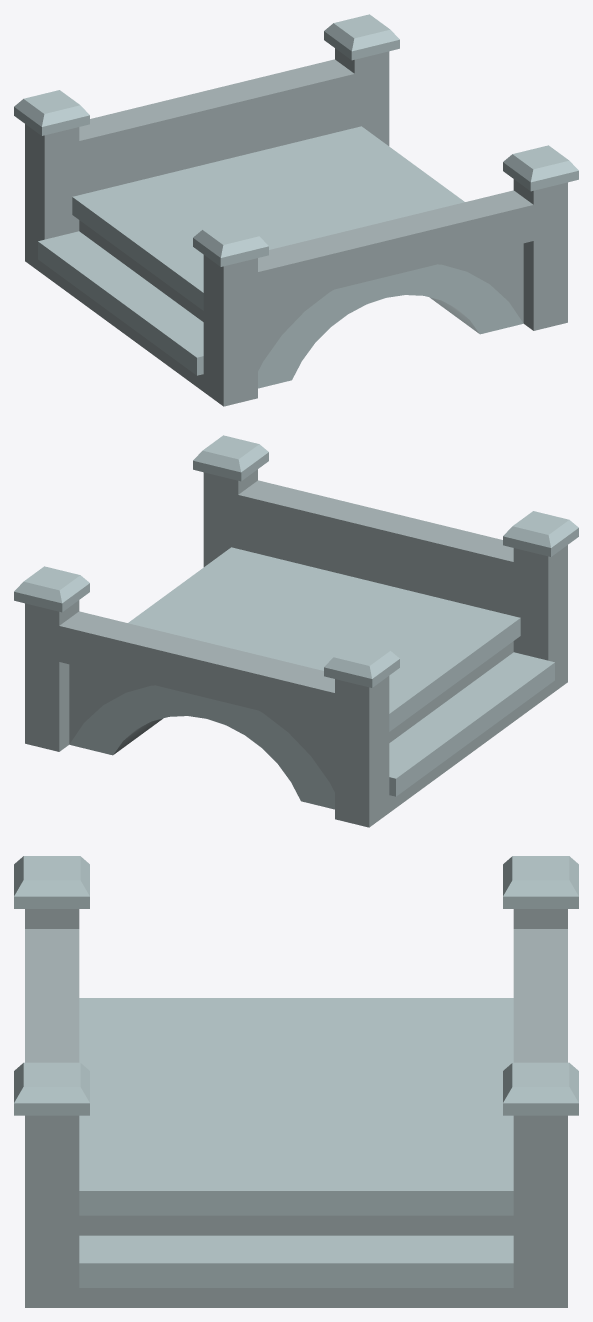
File: bridge_stoneRound.glb
3 views of the same model, one above another, from view 1: azimuth 30°, elevation 25°; view 2: azimuth 150°, elevation 25°; view 3: azimuth 270°, elevation 25° (orthographic). The views are drawn at different scales.
Parts seen in each view (by area): view 1: bridge_stoneRound; view 2: bridge_stoneRound; view 3: bridge_stoneRound.
Part boxes in pixels (x1=…): bridge_stoneRound: x1=14, y1=14, x2=578, y2=406; bridge_stoneRound: x1=14, y1=435, x2=578, y2=827; bridge_stoneRound: x1=14, y1=856, x2=578, y2=1307.
Size of the model in its own units: 1.04 by 0.45 by 1.04.
